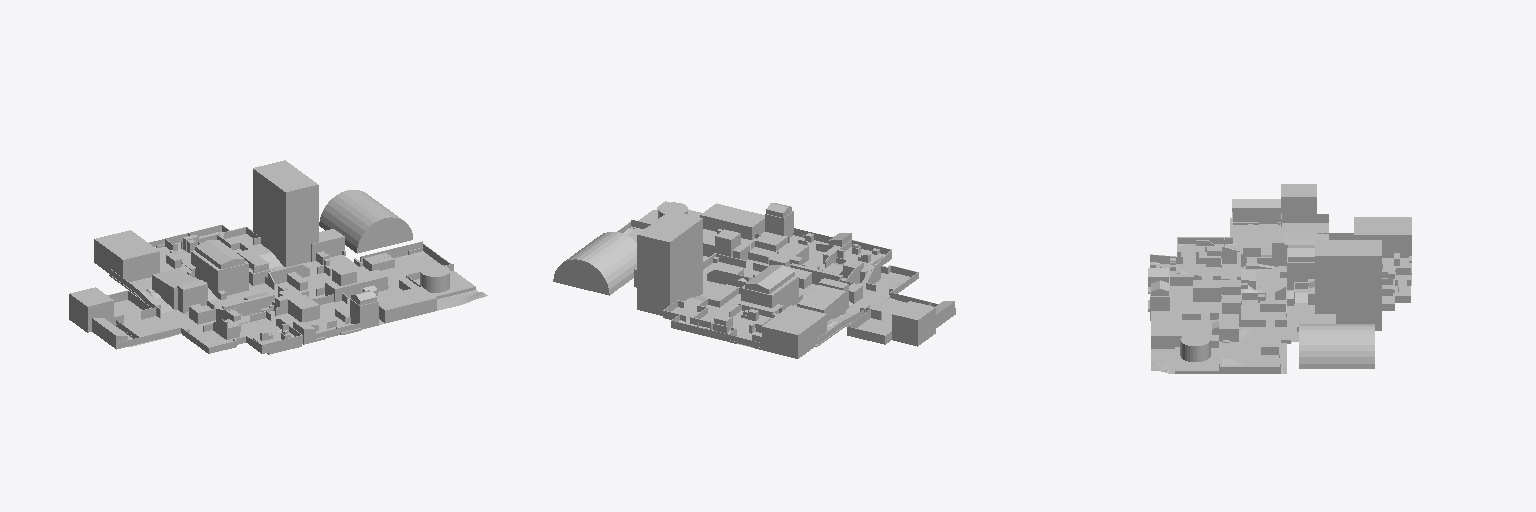
The model's file is de_cache_simple.obj.
3 renders of one model, left to right at view 1: azimuth 30°, elevation 25°; view 2: azimuth 150°, elevation 25°; view 3: azimuth 270°, elevation 25°, orthographic.
Parts seen in each view (by area): view 1: Buildings_Cube.002, Cube.004_Cube, Ground_world.worldspawn.Brush_8499, ASite_Cube.004; view 2: Buildings_Cube.002, Cube.004_Cube, Ground_world.worldspawn.Brush_8499, ASite_Cube.004; view 3: Buildings_Cube.002, Ground_world.worldspawn.Brush_8499, Cube.004_Cube, world.worldspawn.Brush_8550.
Boxes of the visible parts, box(x1,y1,x2,y2) form: Buildings_Cube.002: box(69, 160, 449, 354); Cube.004_Cube: box(106, 225, 453, 353); Ground_world.worldspawn.Brush_8499: box(114, 231, 487, 346); ASite_Cube.004: box(166, 235, 198, 277); Buildings_Cube.002: box(553, 202, 954, 358); Cube.004_Cube: box(617, 220, 955, 349); Ground_world.worldspawn.Brush_8499: box(623, 201, 910, 347); ASite_Cube.004: box(714, 301, 783, 342); Buildings_Cube.002: box(1148, 184, 1411, 368); Ground_world.worldspawn.Brush_8499: box(1151, 218, 1411, 373); Cube.004_Cube: box(1148, 212, 1411, 373); world.worldspawn.Brush_8550: box(1175, 347, 1240, 373).
Bounding box in the file's own units: 560 × 124 × 380.